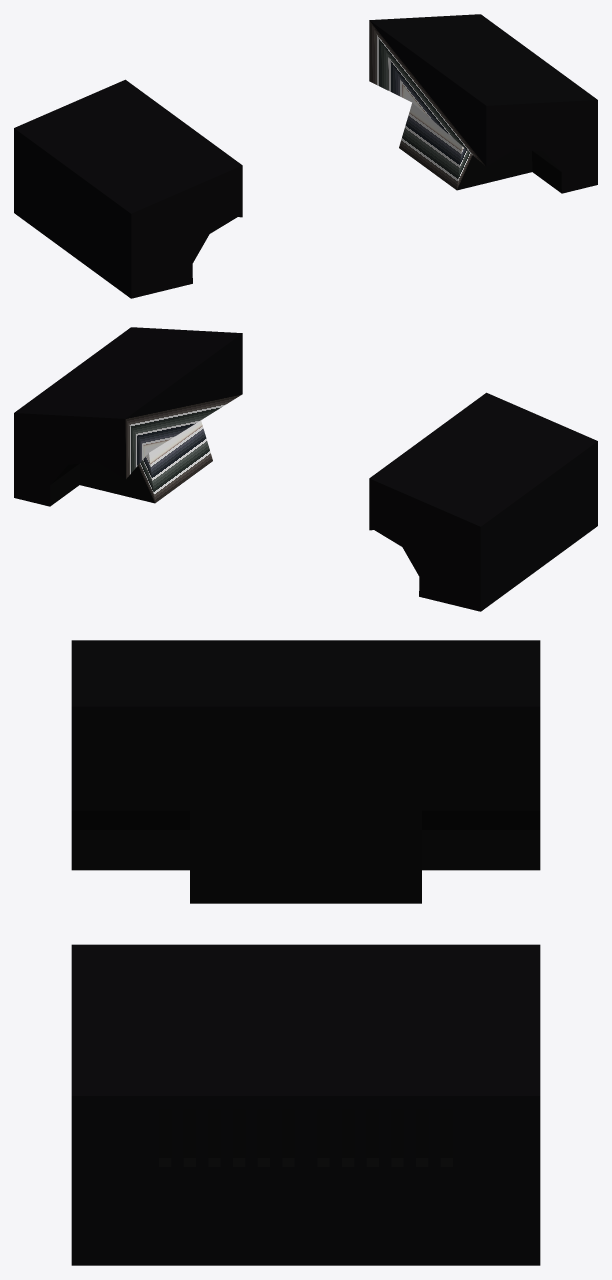
Rendered from Car.glb.
3 renders of one model, top to bottom at view 1: azimuth 30°, elevation 25°; view 2: azimuth 150°, elevation 25°; view 3: azimuth 270°, elevation 25°, orthographic. The views are drawn at different scales.
Parts seen in each view (by area): view 1: Cube.138; view 2: Cube.138; view 3: Cube.138.
Part boxes in pixels (x1,y1,x2,y2): Cube.138: (14, 14, 597, 298); Cube.138: (14, 327, 597, 611); Cube.138: (71, 640, 540, 1265).
Bounding box in the file's own units: 0.1484 × 0.0323 × 0.0645.
1 material, 1 textured.
